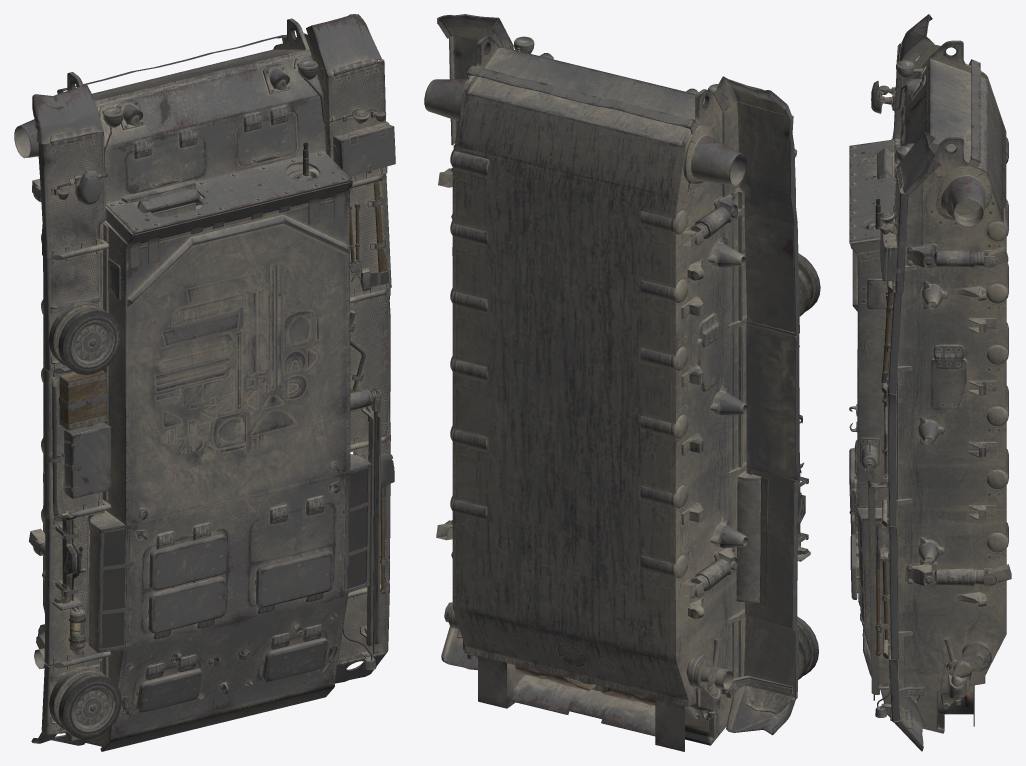
The model's file is Hull.glb.
3 views of the same model, side by side, from view 1: azimuth 30°, elevation 25°; view 2: azimuth 150°, elevation 25°; view 3: azimuth 270°, elevation 25° (orthographic). The views are drawn at different scales.
Visible parts, largest first — view 1: set_0_group_0; view 2: set_0_group_0; view 3: set_0_group_0.
Part boxes in pixels (box(x1,y1,x2,y2)): set_0_group_0: box(14, 14, 395, 751); set_0_group_0: box(424, 14, 820, 751); set_0_group_0: box(849, 14, 1011, 751).
Bounding box in the file's own units: 2.98 × 5.5 × 1.34.
1 material, 1 textured.
